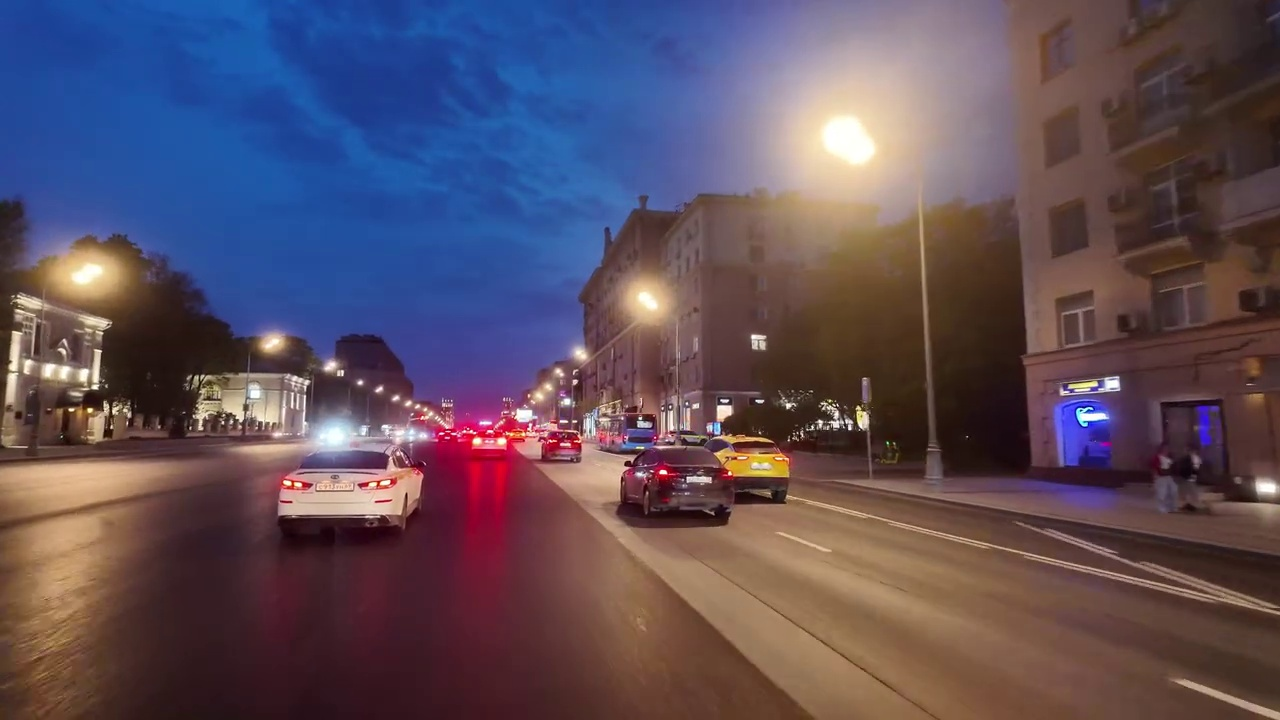acesa: (814, 109, 880, 174), (58, 253, 115, 295), (627, 282, 668, 323), (257, 332, 288, 358)
